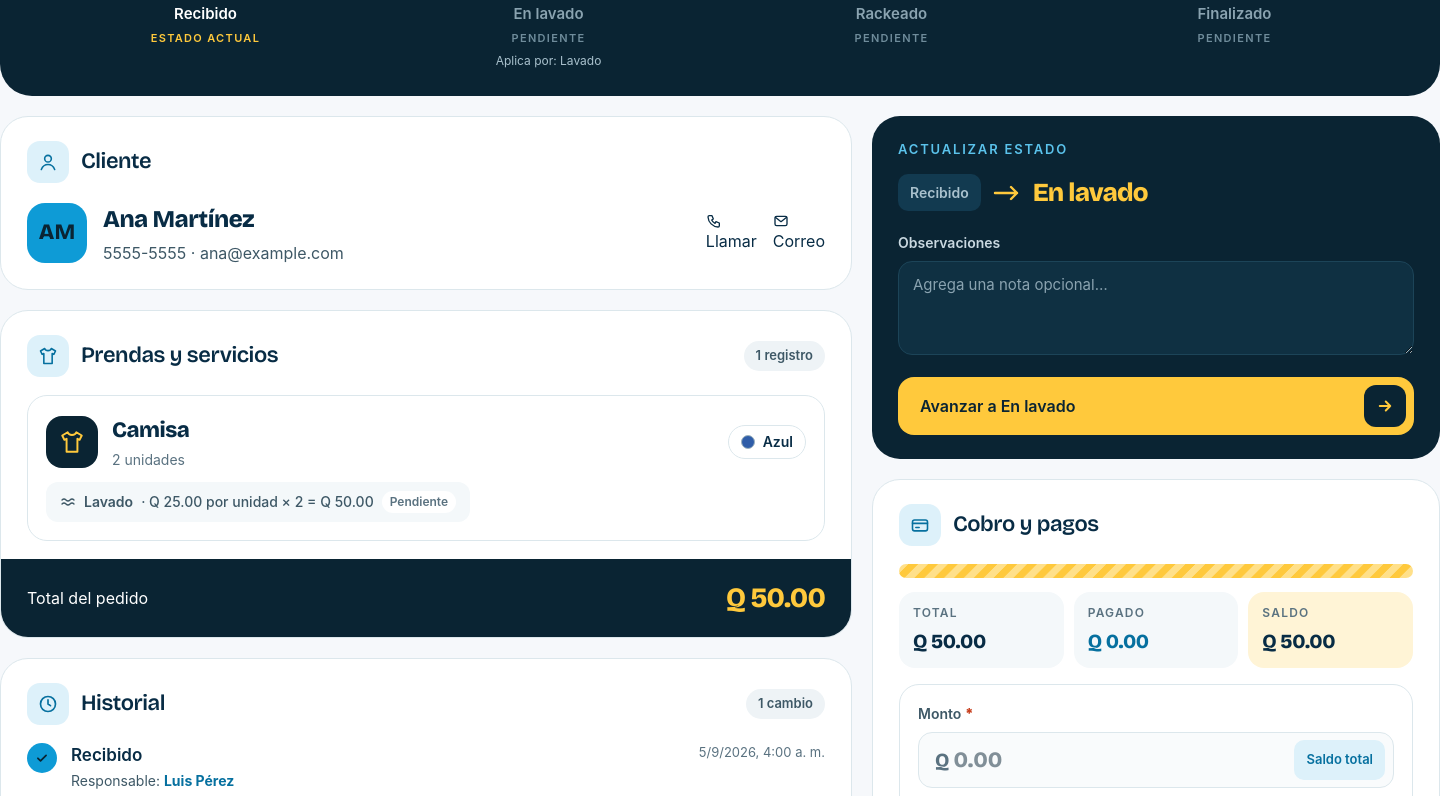
it: OrderDetailPage › muestra el rechazo de una transición y recarga el progreso real
(page scrolled)
Click the button "Avanzar a En lavado" at (998, 406), box [898,377,1414,435]
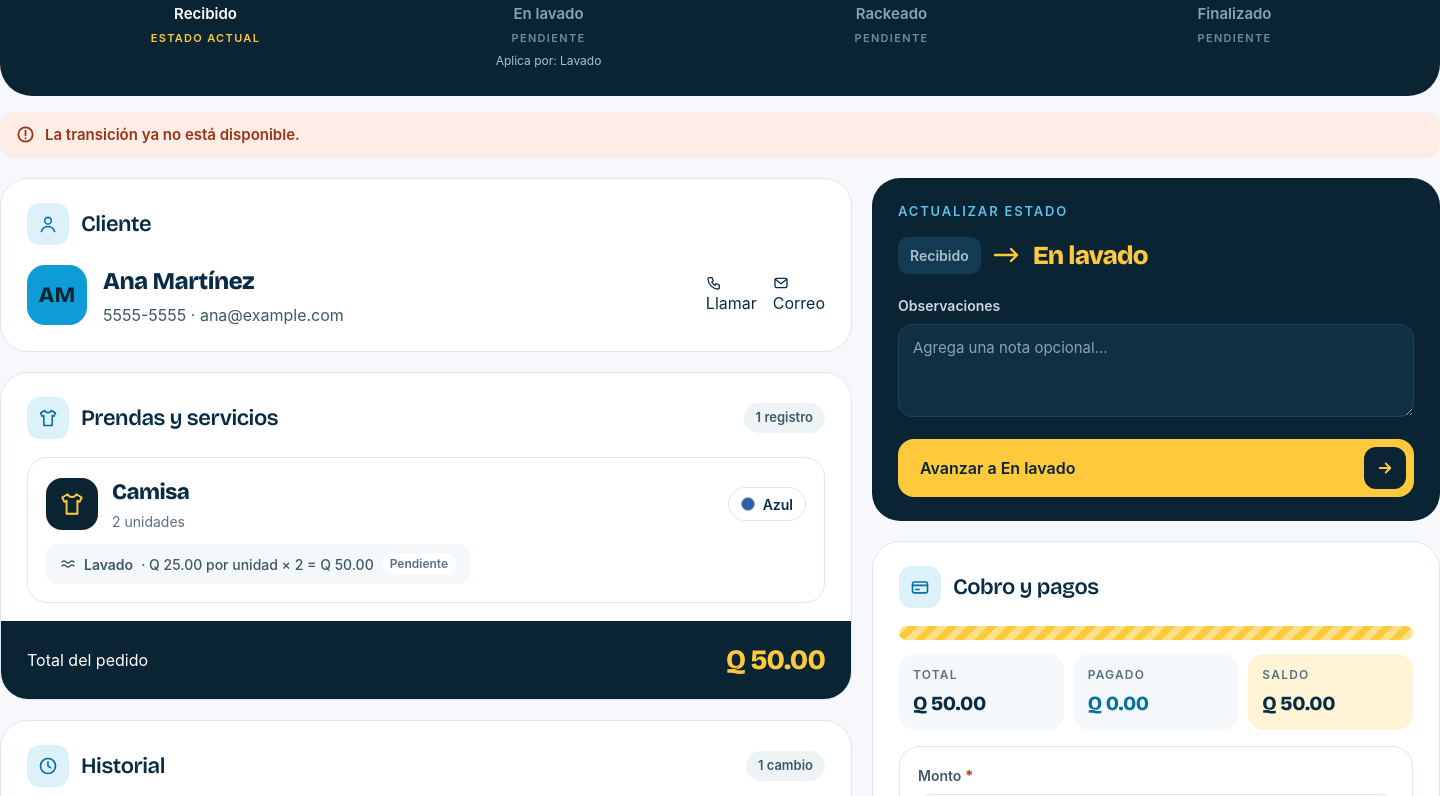
expect the message reads "La transición ya no está disponible.": met, box [45,125,300,144]
